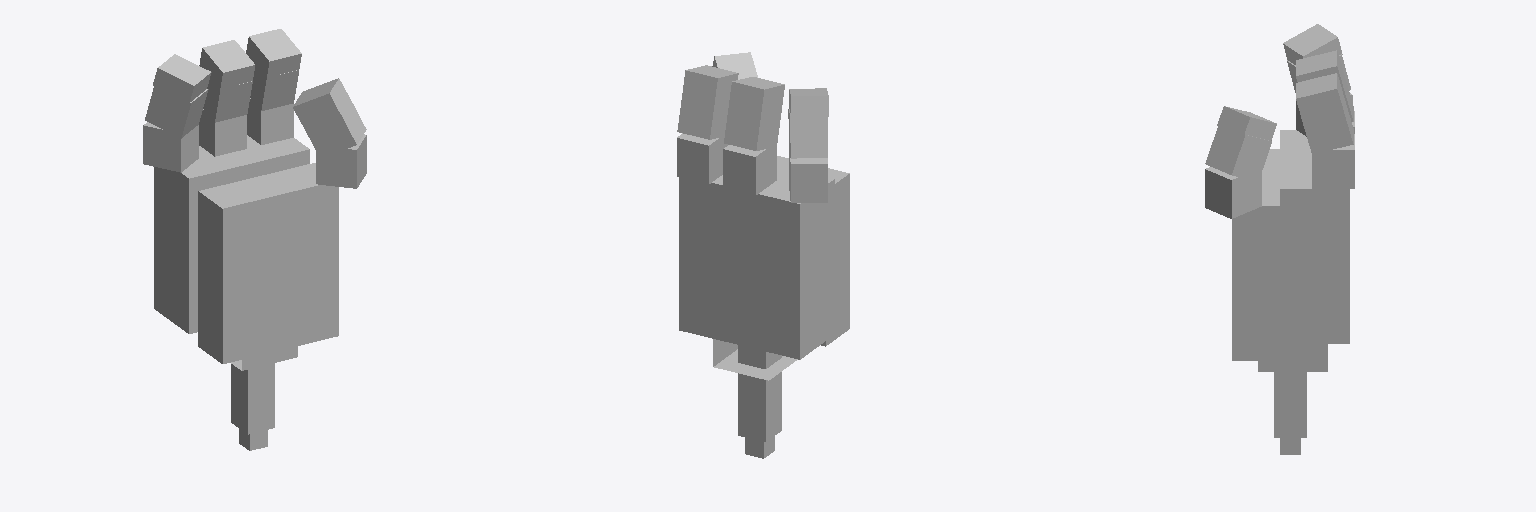
The model's file is 2monkey_paw.obj.
The picture shows the model from 3 angles: view 1: azimuth 30°, elevation 25°; view 2: azimuth 150°, elevation 25°; view 3: azimuth 270°, elevation 25°; orthographic projection.
Visible parts, largest first — view 1: cube.015, cube.014, cube.012, cube.001, cube.003, cube.004, cube.010, cube.009, cube.007, cube.008, cube, cube.002 (+4 smaller); view 2: cube.014, cube.012, cube.015, cube, cube.005, cube.002, cube.006, cube.001, cube.004, cube.009, cube.010, cube.016 (+2 smaller); view 3: cube.014, cube.015, cube.003, cube.007, cube.012, cube.006, cube.002, cube.016, cube.010, cube.008, cube.011, cube.009.
Boxes of the visible parts, <box> form: cube.015: <box>198,163,338,363</box>; cube.014: <box>154,135,309,333</box>; cube.012: <box>231,363,274,434</box>; cube.001: <box>143,122,198,172</box>; cube.003: <box>316,134,366,188</box>; cube.004: <box>145,87,208,138</box>; cube.010: <box>246,29,301,77</box>; cube.009: <box>200,40,254,88</box>; cube.007: <box>303,93,366,149</box>; cube.008: <box>153,54,211,103</box>; cube: <box>199,109,246,156</box>; cube.002: <box>247,98,293,144</box>; cube.014: <box>679,165,834,359</box>; cube.012: <box>738,345,781,441</box>; cube.015: <box>777,156,849,346</box>; cube: <box>723,142,776,195</box>; cube.005: <box>724,103,781,150</box>; cube.002: <box>677,133,727,184</box>; cube.006: <box>677,91,729,139</box>; cube.001: <box>789,152,827,202</box>; cube.004: <box>788,109,827,158</box>; cube.009: <box>729,77,784,109</box>; cube.010: <box>683,65,738,98</box>; cube.016: <box>713,339,797,380</box>; cube.014: <box>1280,130,1349,343</box>; cube.015: <box>1232,149,1279,360</box>; cube.003: <box>1205,167,1261,218</box>; cube.007: <box>1205,127,1271,178</box>; cube.012: <box>1274,372,1306,437</box>; cube.006: <box>1301,95,1353,152</box>; cube.002: <box>1312,134,1354,188</box>; cube.016: <box>1258,344,1327,371</box>; cube.010: <box>1296,73,1342,116</box>; cube.008: <box>1283,24,1342,64</box>; cube.011: <box>1217,106,1276,140</box>; cube.009: <box>1296,50,1342,84</box>.
Bounding box in the file's own units: 0.5813 × 1.24 × 0.4367.